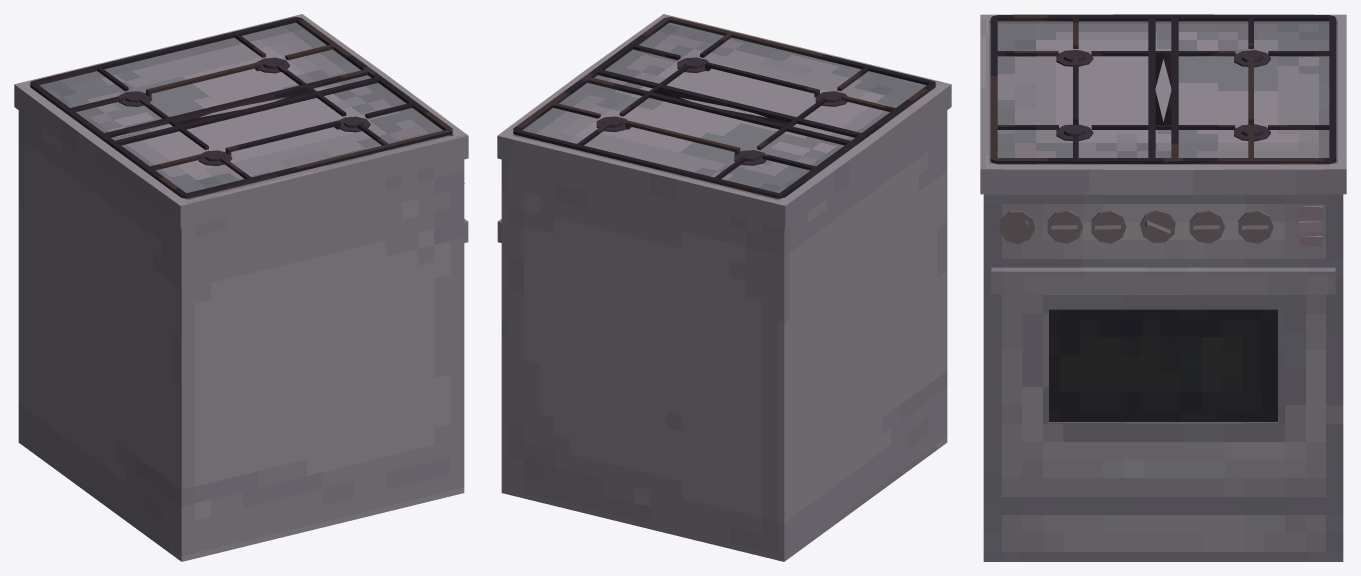
File: Cooking Stove.fbx
3 views of the same model, side by side, from view 1: azimuth 30°, elevation 25°; view 2: azimuth 150°, elevation 25°; view 3: azimuth 270°, elevation 25° (orthographic). The views are drawn at different scales.
Visible parts, largest first — view 1: Cube; view 2: Cube; view 3: Cube.
Part boxes in pixels (left/top/right/bottom): Cube: left=14, top=14, right=468, bottom=561; Cube: left=497, top=14, right=951, bottom=561; Cube: left=980, top=14, right=1346, bottom=561.
Bounding box in the file's own units: 260 × 303 × 253.
Materials: 1 (1 with a texture image).
